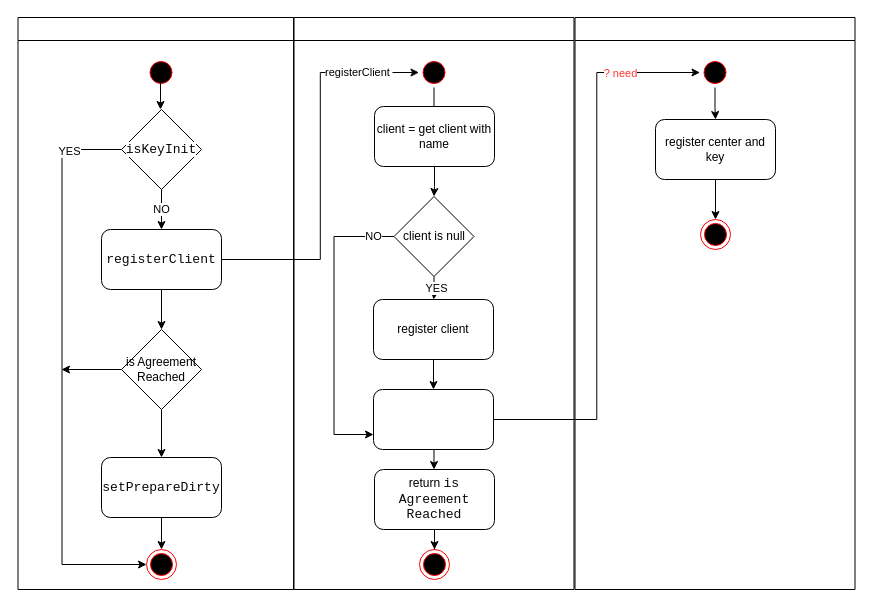
Some shapes in this 872 by 607 pixel diagram are drawn without their labels. The shapes that lost their labels are listed below. From the top down, each one's box as (x1, y1, x2, y2) in pixels, then its label:
(17, 16, 294, 590): C(Client)
(293, 16, 574, 590): R(Center)
(574, 16, 855, 590): S(cache.simpledemo.CLI)
(372, 388, 494, 450): register key
